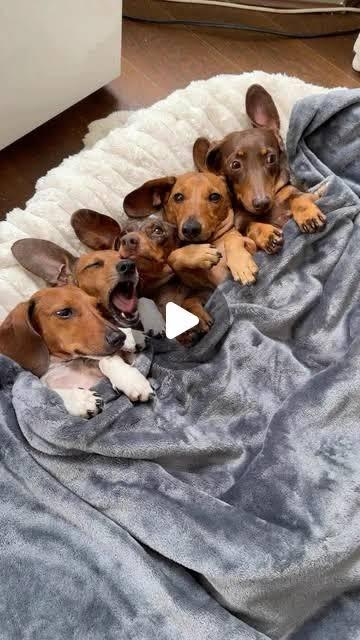puppy-dog: (192, 83, 328, 256), (0, 280, 154, 420), (10, 237, 176, 356), (71, 209, 216, 345), (121, 170, 259, 287)
